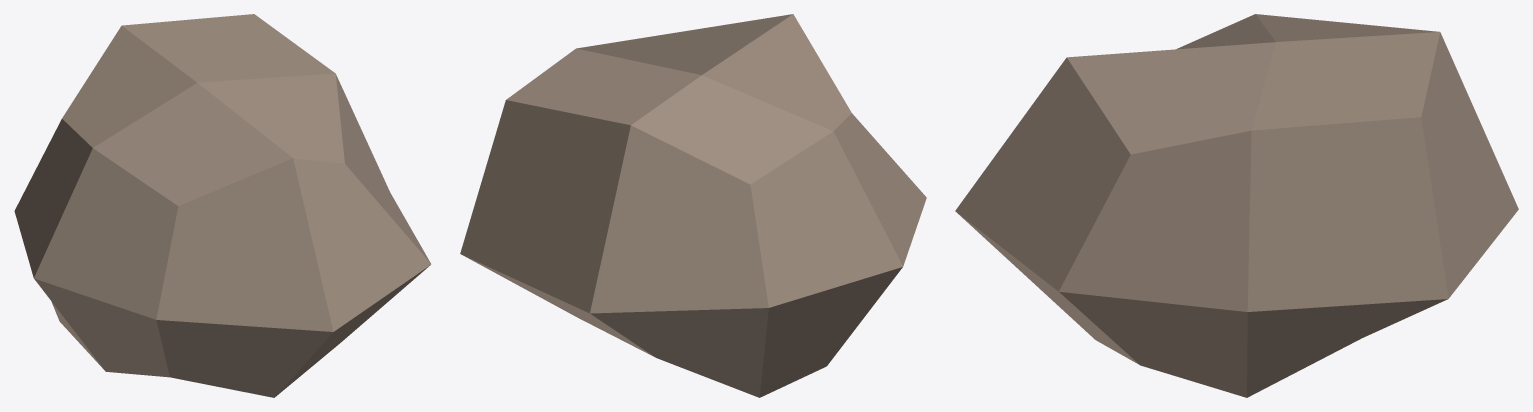
File: rock1.fbx
3 renders of one model, left to right at view 1: azimuth 30°, elevation 25°; view 2: azimuth 150°, elevation 25°; view 3: azimuth 270°, elevation 25°, orthographic. The views are drawn at different scales.
Parts seen in each view (by area): view 1: Cube; view 2: Cube; view 3: Cube.
Boxes of the visible parts, box(x1,y1,x2,y2) form: Cube: box(14, 14, 431, 397); Cube: box(460, 14, 926, 397); Cube: box(955, 14, 1518, 397).
Bounding box in the file's own units: 350 × 254 × 415.
